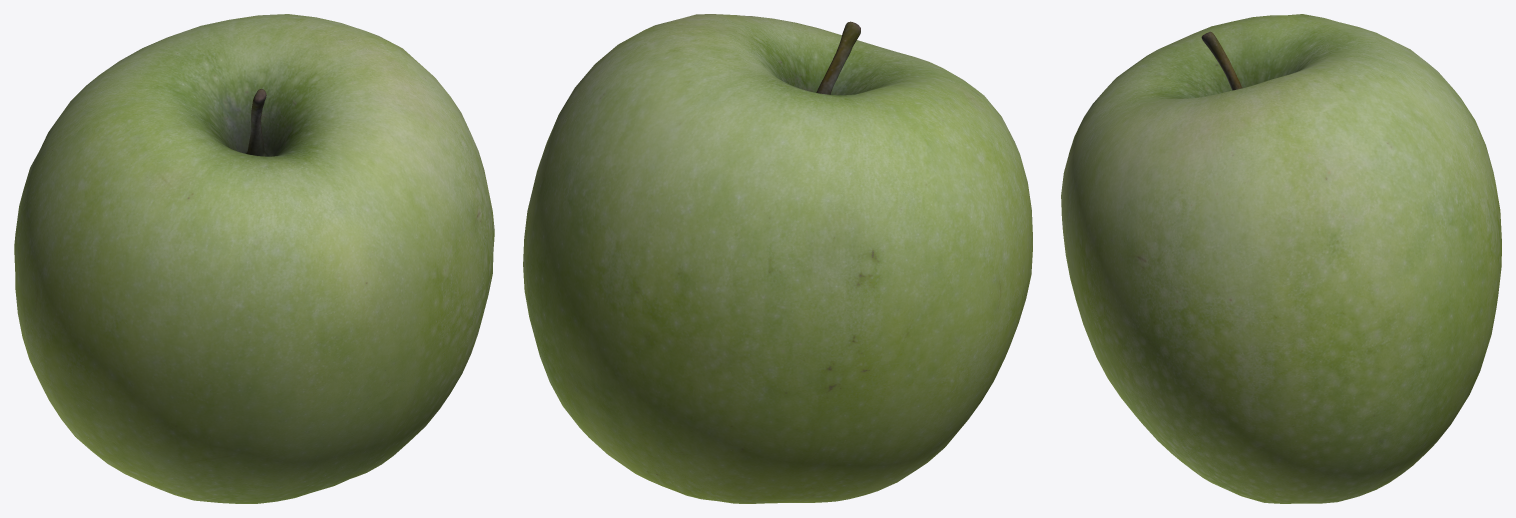
Rendered from tasty_green_apple.glb.
3 views of the same model, side by side, from view 1: azimuth 30°, elevation 25°; view 2: azimuth 150°, elevation 25°; view 3: azimuth 270°, elevation 25° (orthographic). The views are drawn at different scales.
Visible parts, largest first — view 1: Object_2; view 2: Object_2; view 3: Object_2.
Boxes of the visible parts, box(x1,y1,x2,y2) form: Object_2: box(14, 14, 494, 503); Object_2: box(523, 14, 1032, 503); Object_2: box(1061, 14, 1501, 503).
Bounding box in the file's own units: 7.01 × 6.43 × 6.3.
Materials: 1 (1 with a texture image).
